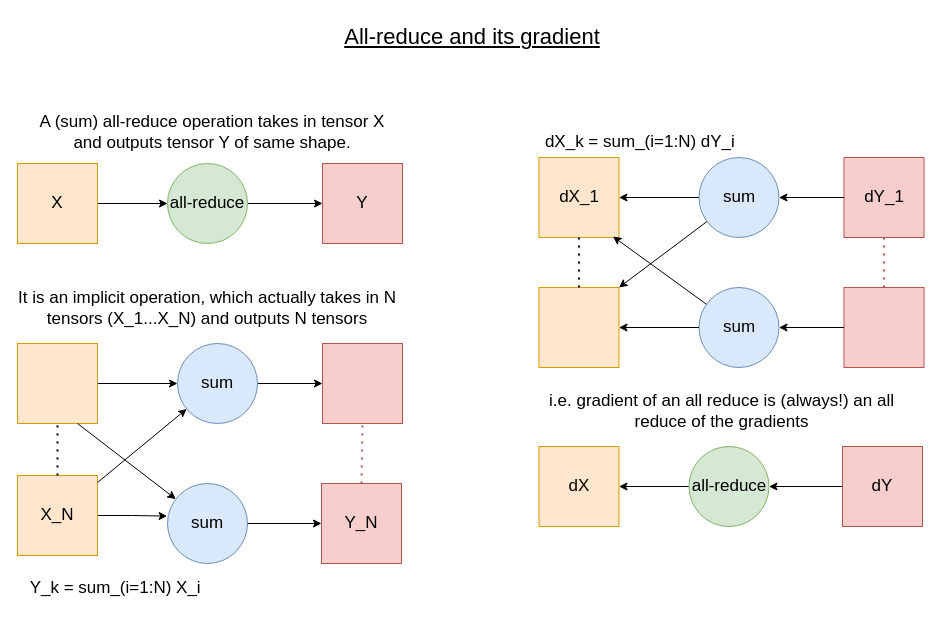
This 942x620 diagram has some shape labels left out. Here are the shapes that lost their labels. From the top down, the centre of each, then its label:
At pixel 578 327: "dX_N".
At pixel 883 327: "dY_N".
At pixel 57 383: "X_1".
At pixel 362 383: "Y_1".
